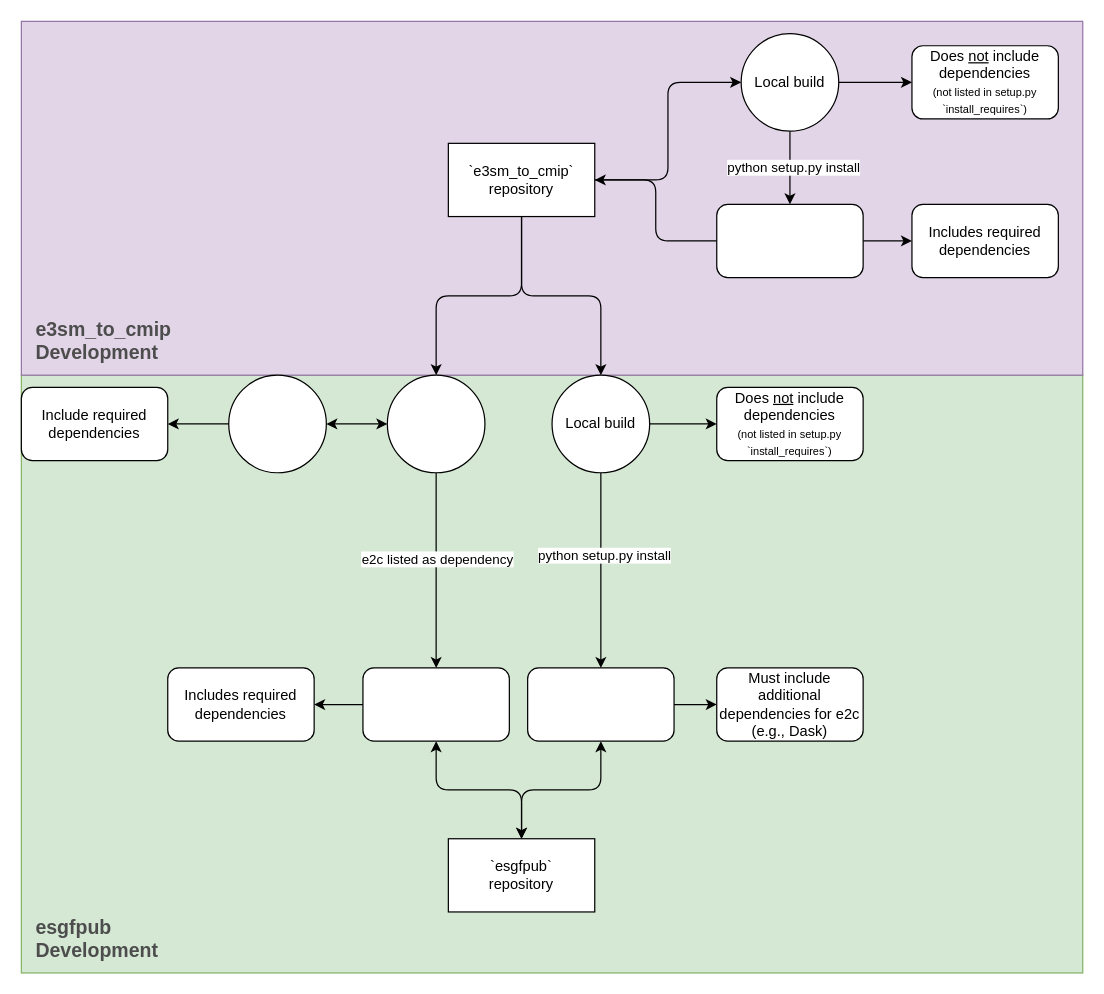
This 1104x994 diagram has some shape labels left out. The box of each missing label's shape, as (x1, y1, x2, y2) in pixels:
Anaconda Release (e.g., v1.8.1): (386, 374, 485, 473)
Build Recipe conda-forge feedstock (meta.yaml): (228, 374, 326, 473)
Development Env "e3sm_to_cmip_dev" (dev.yml): (716, 203, 863, 278)
Development Env Name: "esfpub_dev" File: dev.yml: (362, 667, 509, 741)
Development Env Name: "esgfpub_dev_local" File: dev_local.yml: (526, 667, 674, 741)
